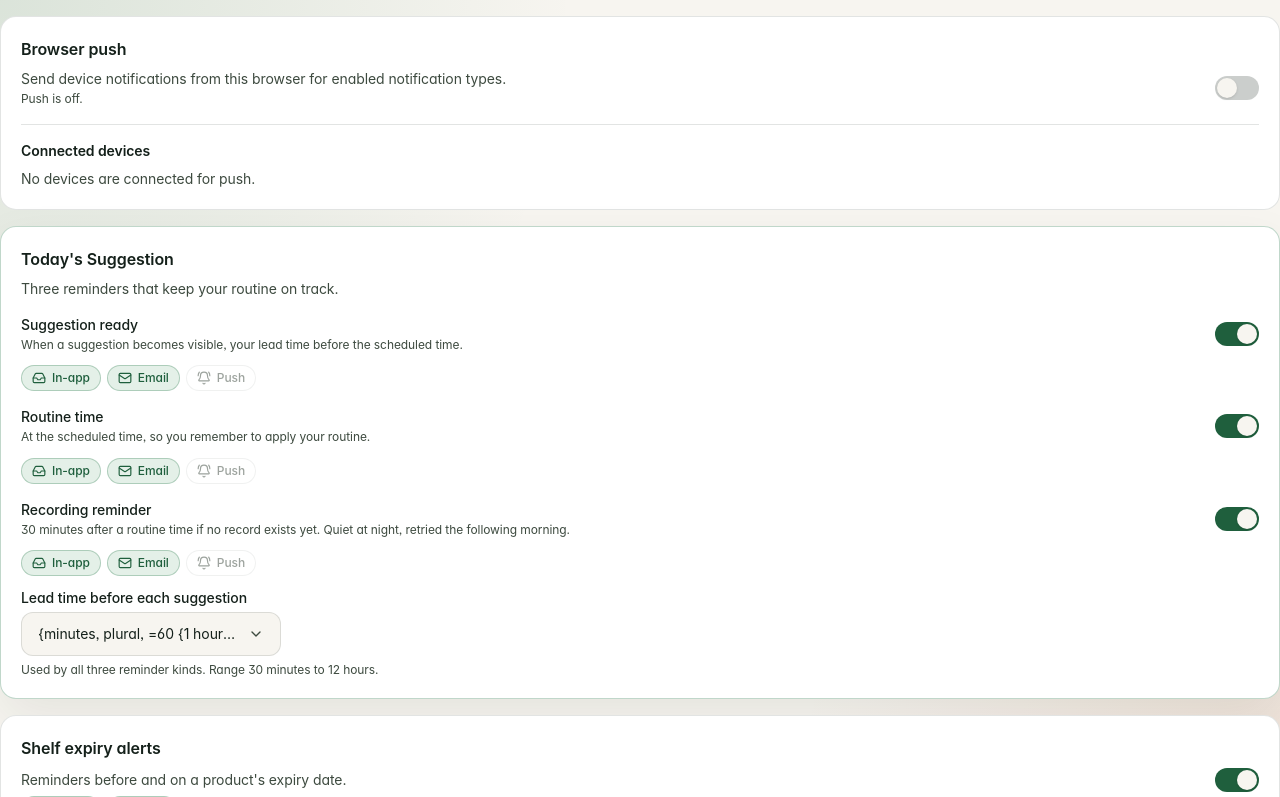
NotificationsTab › enables browser push and persists the push channel
Click the switch named "Browser push" at (1237, 88), box top-left (1215, 76), bottom-right (1259, 100)
(page scrolled)
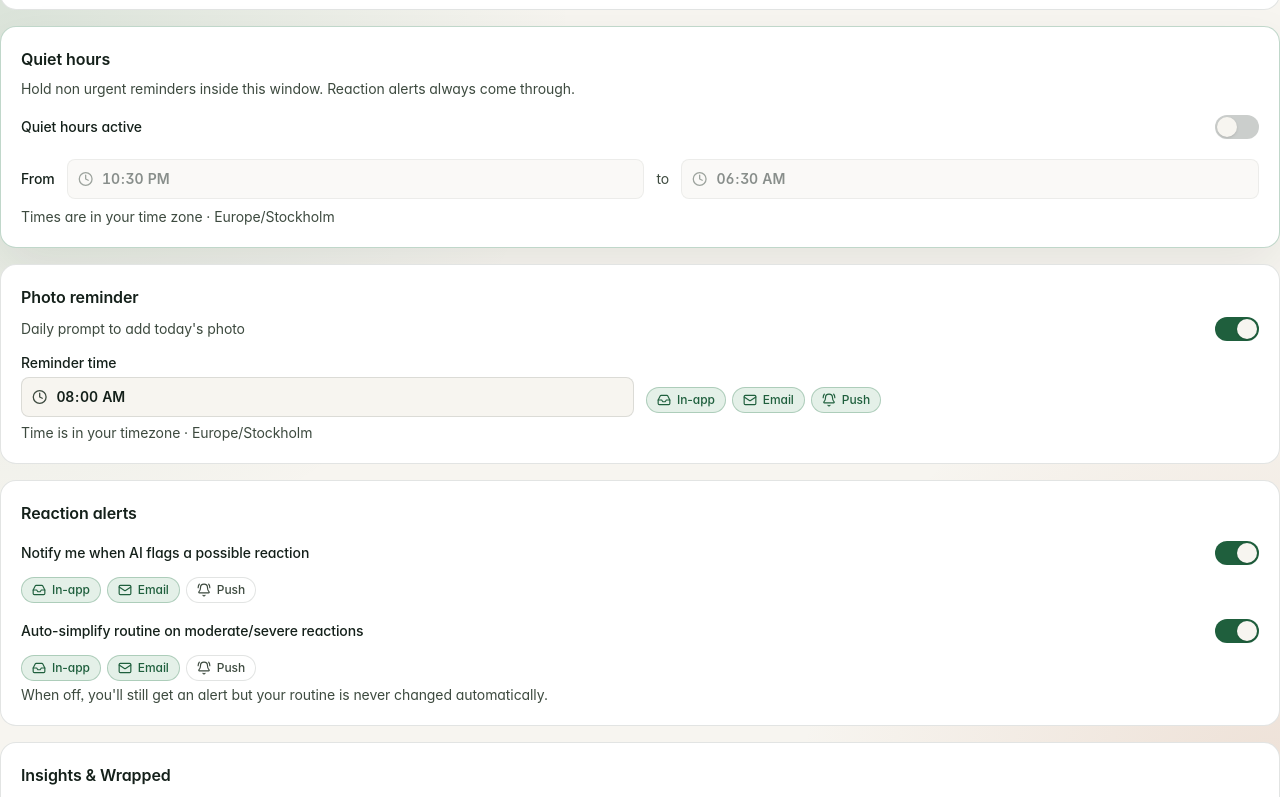
Now the checkbox named "Push for Photo reminder" is checked, box top-left (811, 387), bottom-right (881, 413)
Now the checkbox named "Push for Photo reminder" is enabled, box top-left (811, 387), bottom-right (881, 413)
